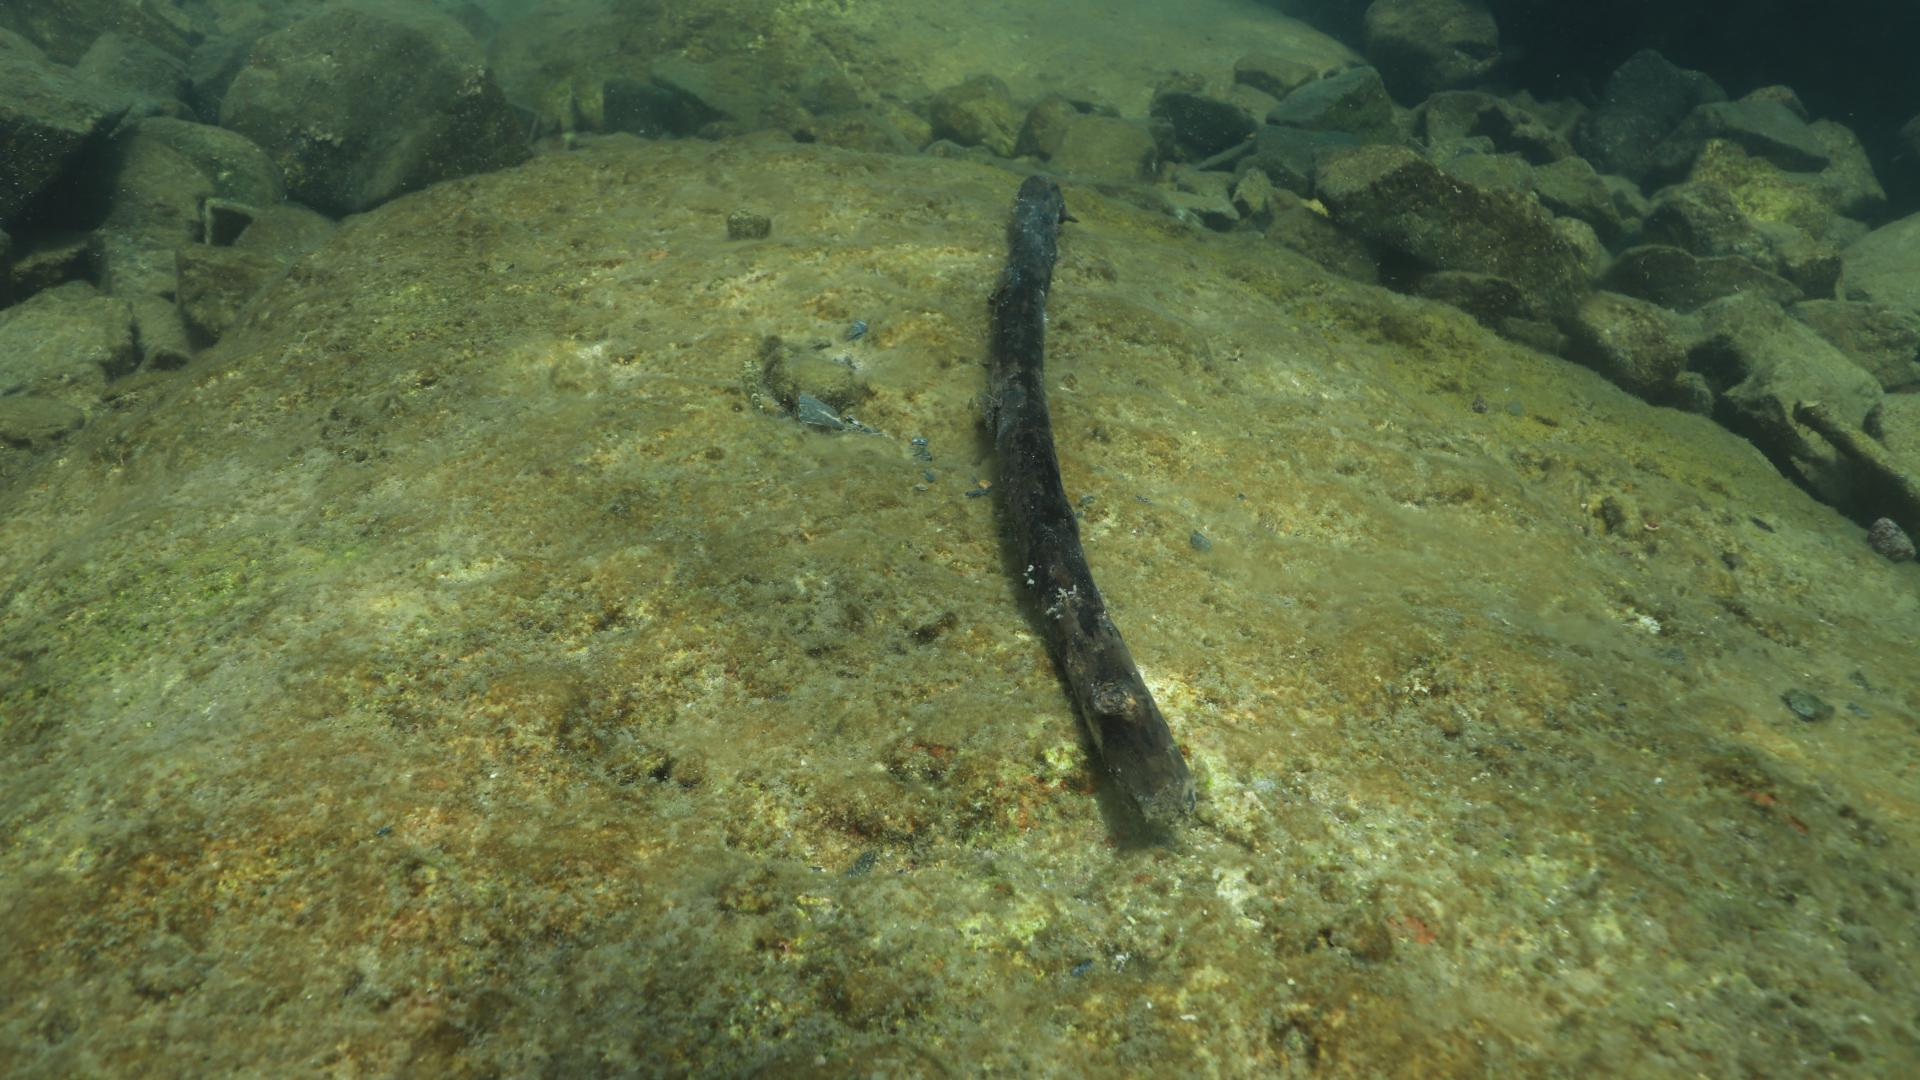wood: (986, 171, 1195, 829)
